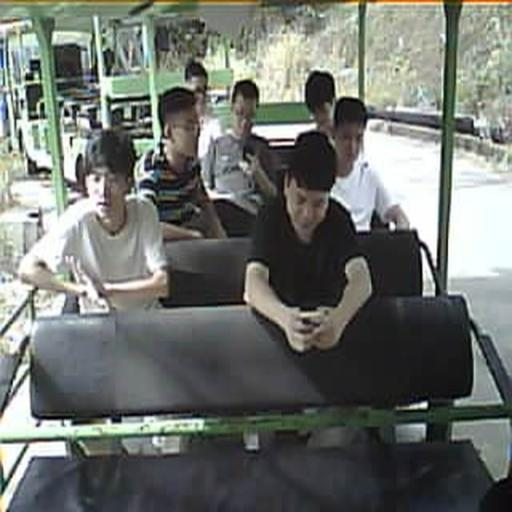persona: (242, 130, 374, 356), (18, 128, 170, 315), (134, 86, 229, 241), (328, 95, 410, 234), (202, 79, 276, 197), (184, 64, 220, 160), (304, 69, 337, 141)
